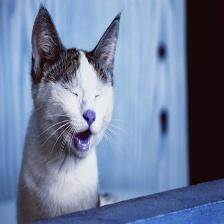kedo: (20, 6, 119, 197)
